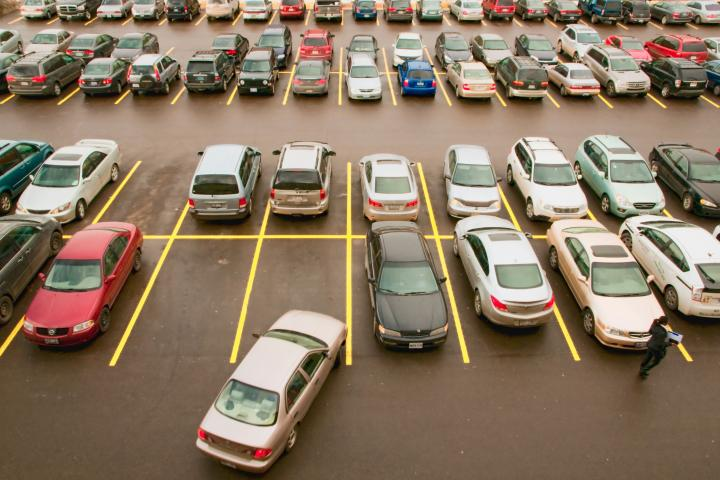car: (174, 310, 355, 466), (12, 219, 146, 349), (543, 215, 667, 351), (448, 215, 556, 339), (613, 214, 718, 334), (362, 222, 452, 358), (11, 133, 127, 214), (574, 127, 668, 215), (1, 210, 62, 341), (505, 133, 591, 219), (182, 143, 264, 225), (268, 137, 336, 226), (647, 136, 719, 217), (352, 148, 425, 221), (437, 140, 503, 214), (1, 131, 53, 219), (578, 42, 651, 102), (639, 52, 708, 106), (9, 55, 82, 105), (492, 55, 551, 106), (236, 44, 284, 101), (542, 61, 602, 106), (442, 61, 496, 107), (185, 50, 235, 98), (129, 54, 182, 99), (646, 30, 708, 67), (75, 57, 129, 99), (344, 54, 385, 105), (396, 60, 438, 101), (512, 32, 561, 66), (291, 59, 333, 98), (557, 24, 602, 60), (465, 31, 511, 65), (433, 29, 474, 67), (113, 30, 160, 63), (25, 27, 75, 58), (255, 25, 293, 63), (606, 33, 651, 64), (208, 30, 249, 64), (391, 30, 425, 68), (300, 26, 334, 63), (651, 1, 692, 28), (579, 2, 624, 25), (54, 0, 99, 21), (691, 1, 719, 32), (311, 0, 345, 25), (450, 0, 484, 25), (348, 32, 377, 61), (164, 0, 199, 24), (383, 0, 415, 26), (1, 50, 19, 96), (551, 0, 584, 25), (94, 0, 131, 22), (621, 1, 653, 26), (517, 0, 550, 24), (16, 0, 53, 21), (203, 0, 238, 22), (240, 0, 273, 21), (132, 1, 166, 21), (1, 25, 24, 54), (486, 0, 515, 22), (352, 0, 379, 23), (418, 0, 445, 23), (277, 0, 306, 21)
